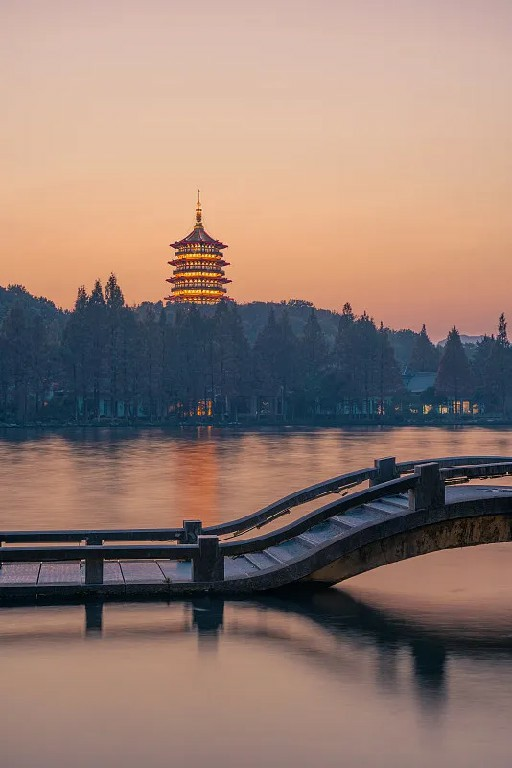Leifeng: (163, 185, 232, 312)
